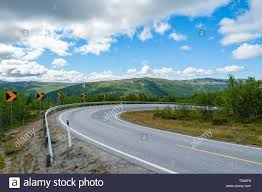strada: (3, 102, 257, 182)
